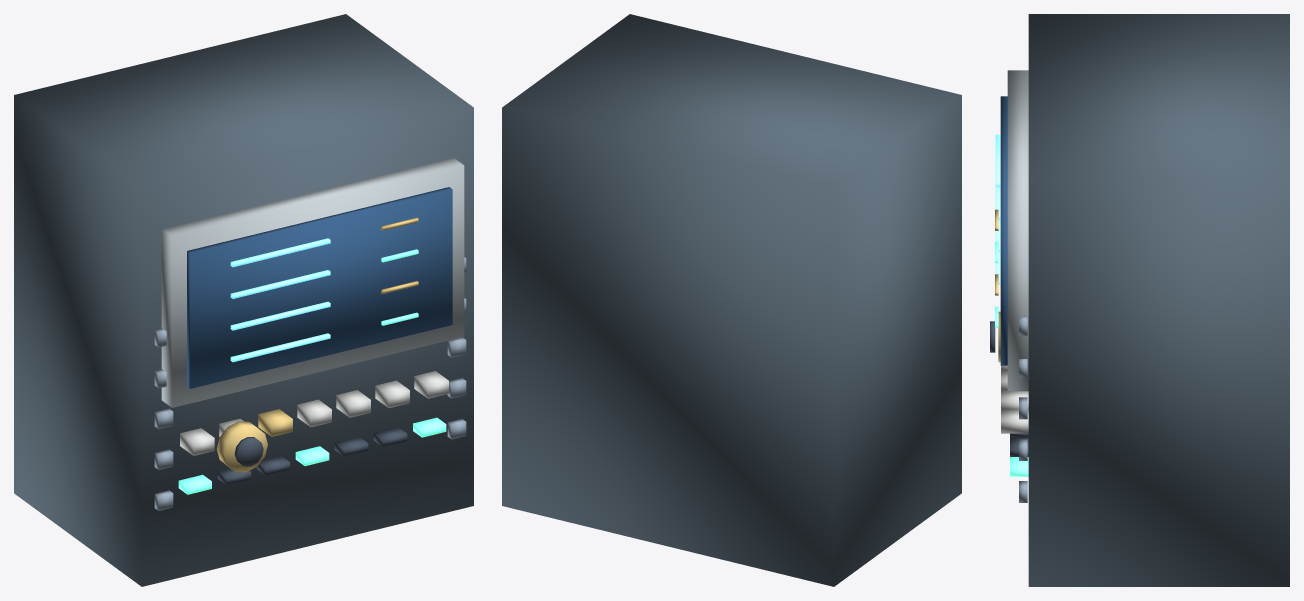
File: 51_L84_InertialReferenceClock.glb
The picture shows the model from 3 angles, left to right: view 1: azimuth 30°, elevation 25°; view 2: azimuth 150°, elevation 25°; view 3: azimuth 270°, elevation 25°; orthographic projection. The views are drawn at different scales.
Visible parts, largest first — view 1: L84_InertialReferenceClock, L84_InertialReferenceClock_Part_0009, L84_InertialReferenceClock_Part_0010; view 2: L84_InertialReferenceClock; view 3: L84_InertialReferenceClock.
Part boxes in pixels (x1,y1,x2,y2): L84_InertialReferenceClock: (14,14,473,586); L84_InertialReferenceClock_Part_0009: (217,421,267,472); L84_InertialReferenceClock_Part_0010: (234,437,263,466); L84_InertialReferenceClock: (502,14,961,586); L84_InertialReferenceClock: (995,14,1289,586).
Bounding box in the file's own units: 0.9996 × 1.15 × 0.7652.
